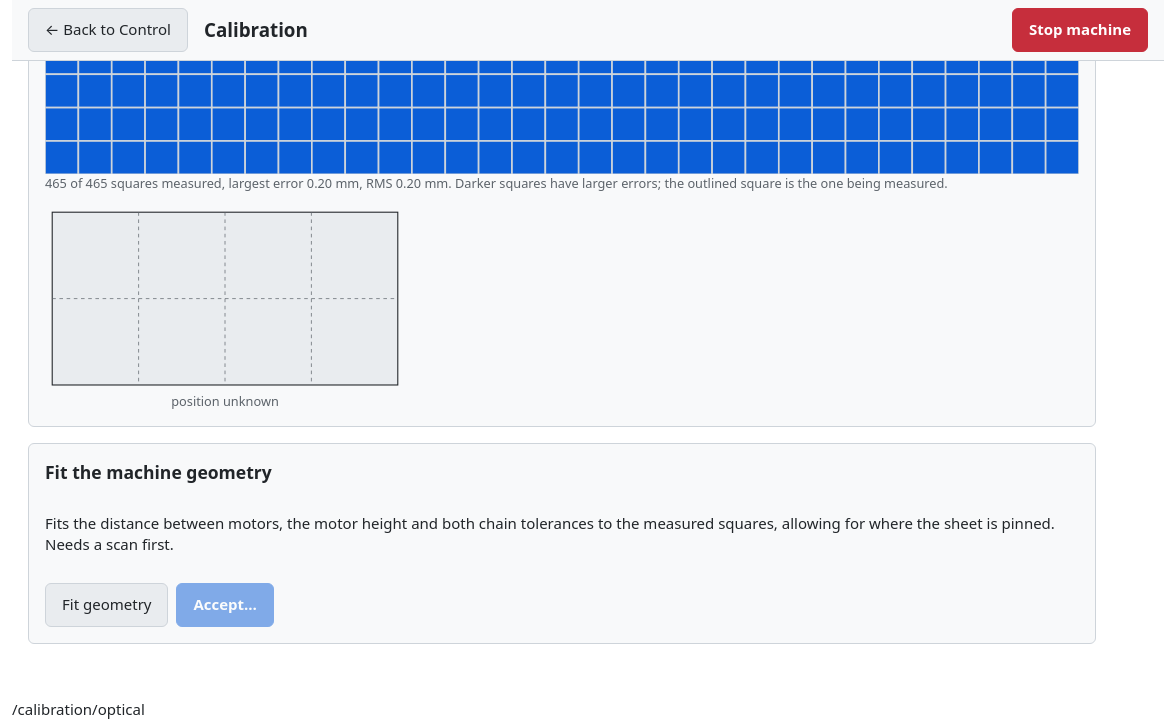
optical geometry fit › reports a fit that did not converge
(page scrolled)
Click the button "Fit geometry" at {"x": 107, "y": 605}, box [45,583,168,627]
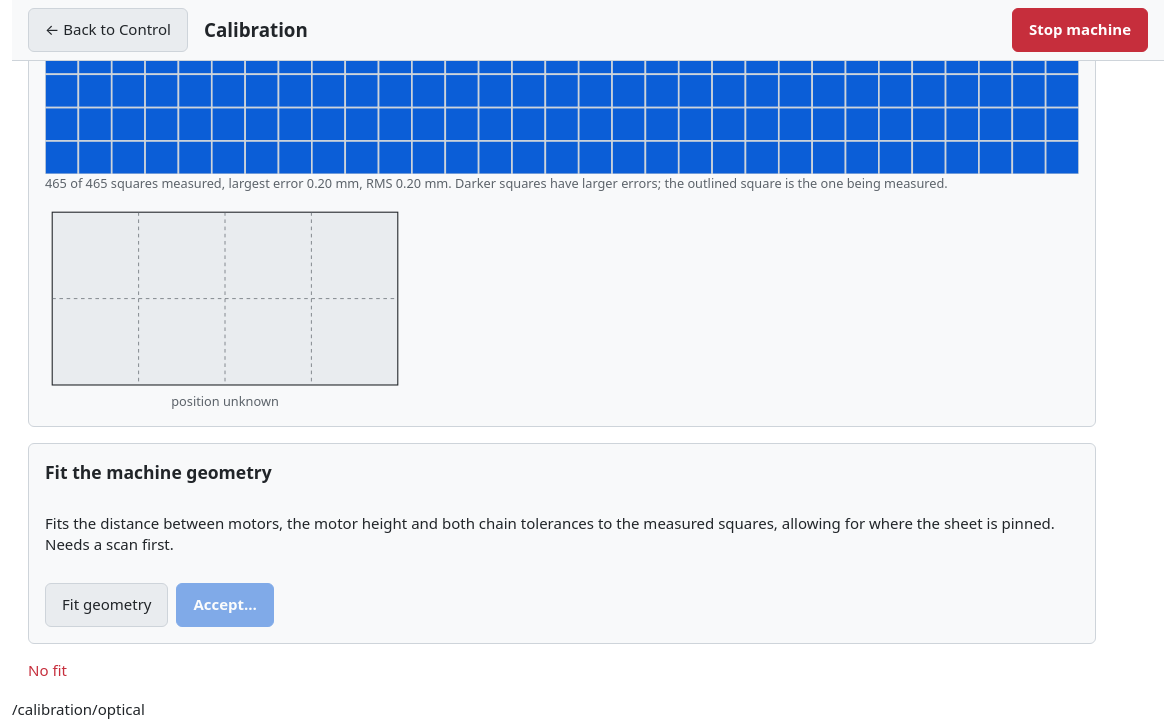
Expected: the message named "Calibration status" reads "No fit", [28,660,67,680]
